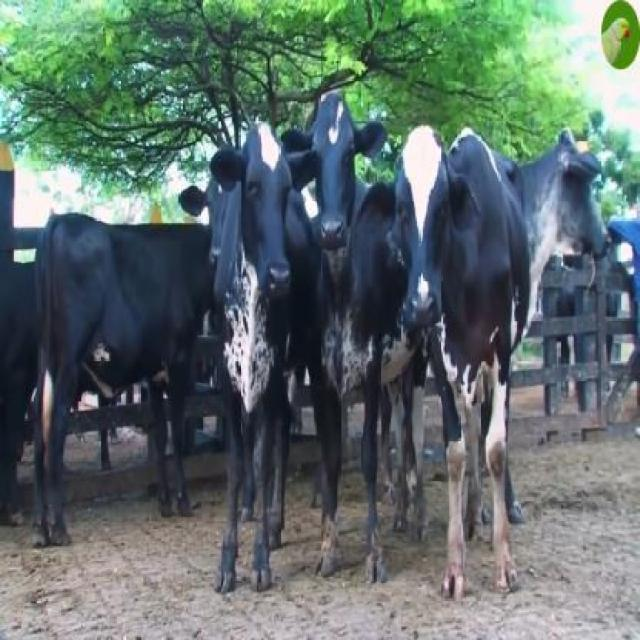Cow: (392, 120, 531, 605), (300, 93, 398, 584), (214, 126, 308, 600)
